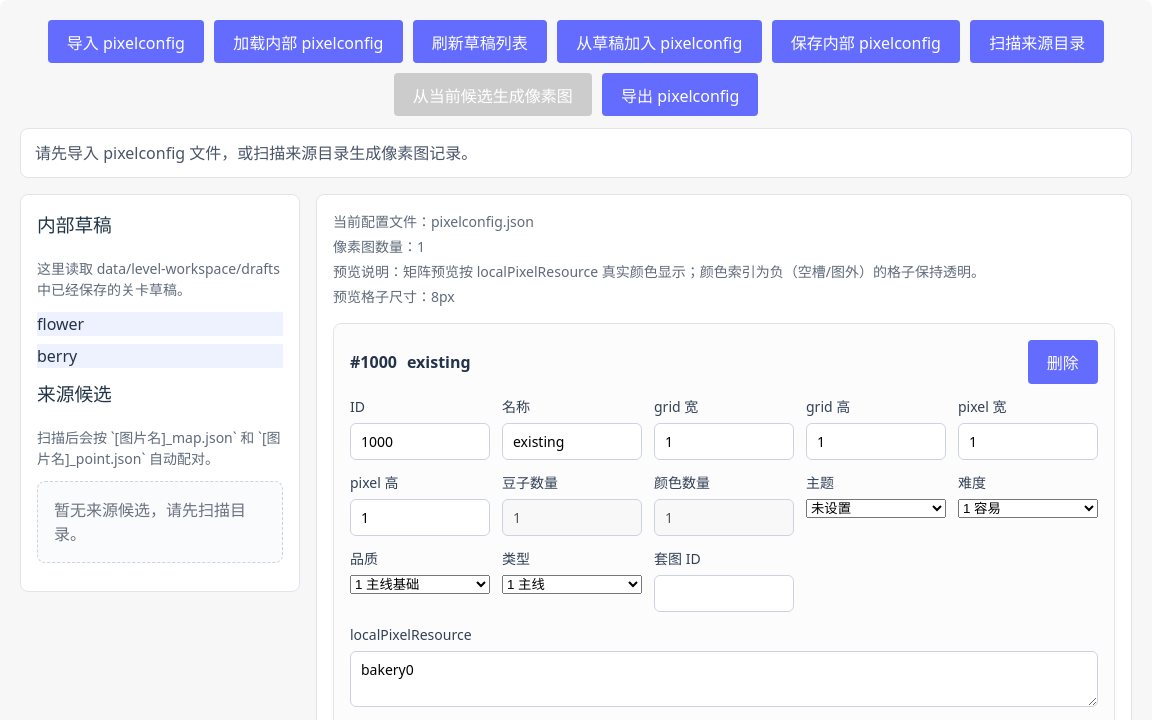
Test: PixelConfigPage internal workspace management › opens the internal drafts picker at the default drafts path without importing immediately
Click the button "从草稿加入 pixelconfig": [659, 42] box 557,20 -> 762,63
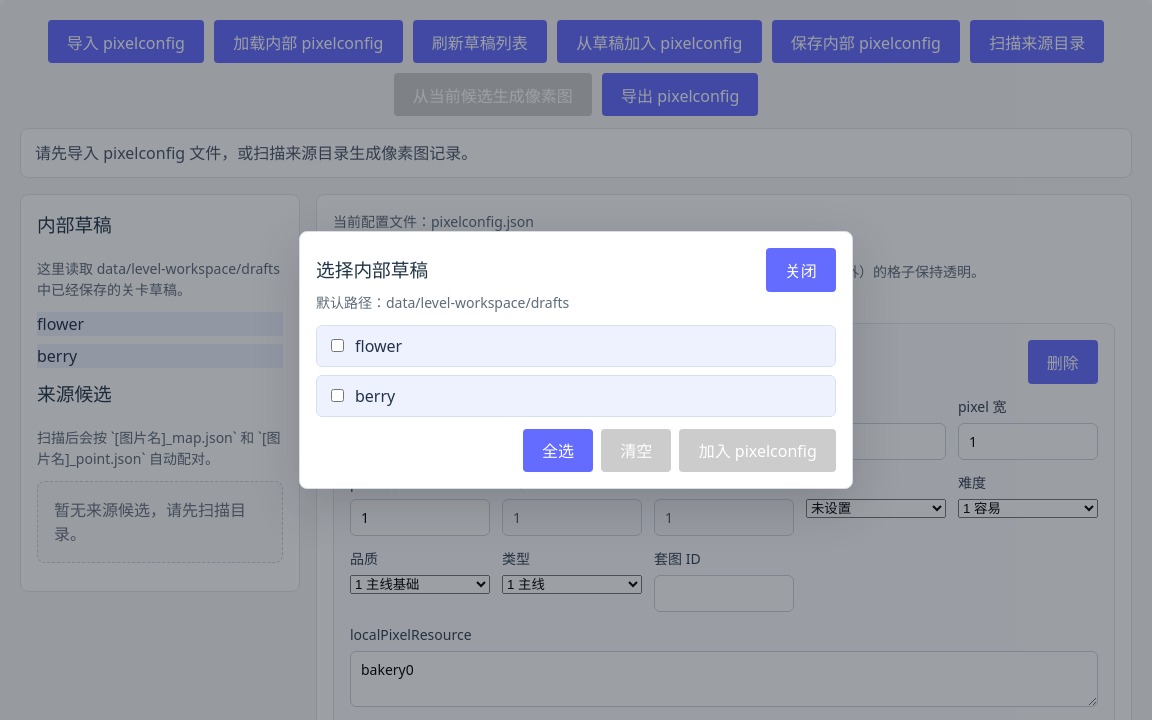
Expected: the text "data/level-workspace/drafts" is shown, 386,292 -> 569,312
Now the element with test id "draft-picker-dialog" is shown
